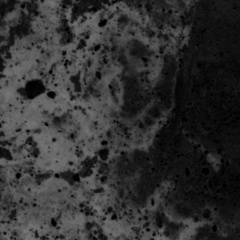Vegetation: (1, 159, 118, 240), (1, 99, 118, 160), (14, 42, 121, 80), (121, 204, 183, 240), (76, 14, 136, 42), (45, 81, 124, 101), (138, 19, 164, 79), (37, 1, 74, 42), (118, 119, 155, 150), (2, 55, 19, 99), (106, 1, 146, 19), (164, 24, 189, 52), (149, 191, 167, 206)
